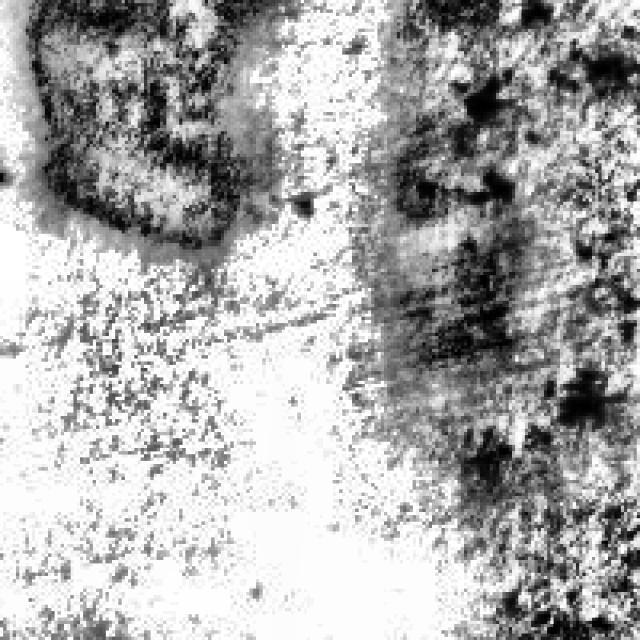Scratches: (15, 0, 278, 250), (378, 170, 544, 396)
